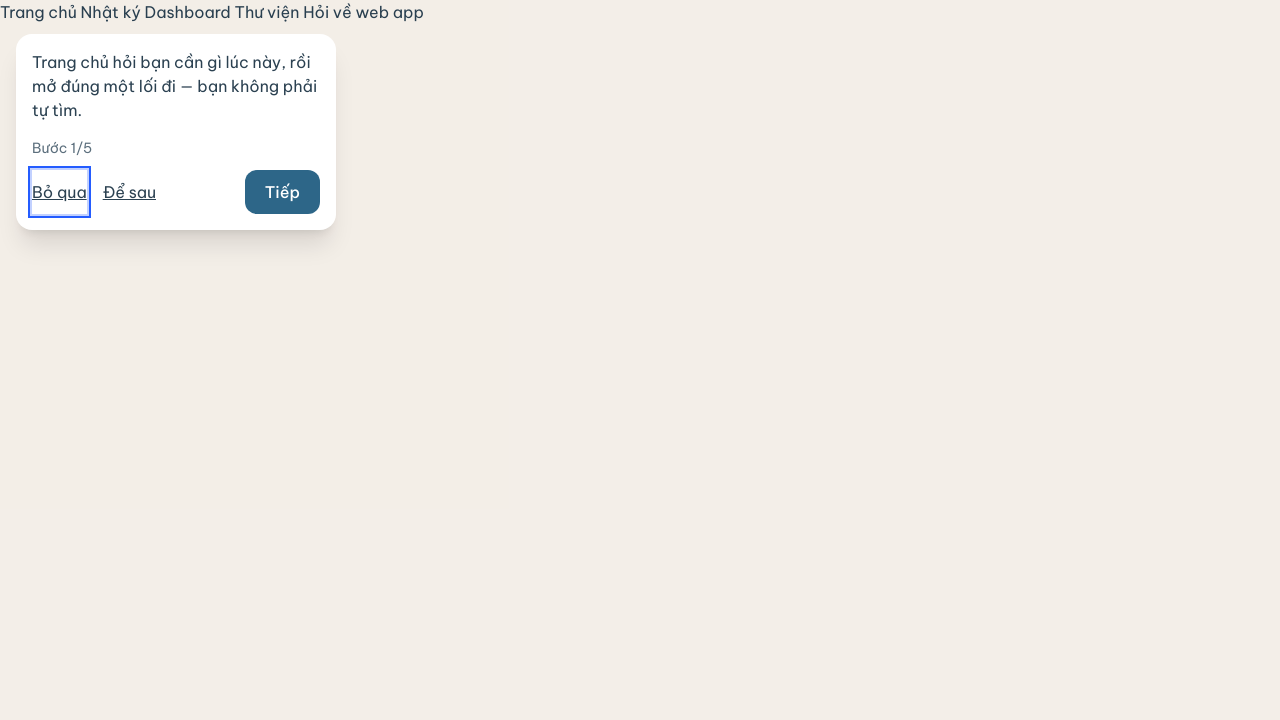
Scenario: OnboardingTour — 'Để sau' và 'Bỏ qua' là hai việc khác nhau › 'Bỏ qua' ghi dismissed để KHÔNG tự chạy lại
The image size is (1280, 720).
Click the button "Bỏ qua": x=59, y=192 [32,170,87,214]
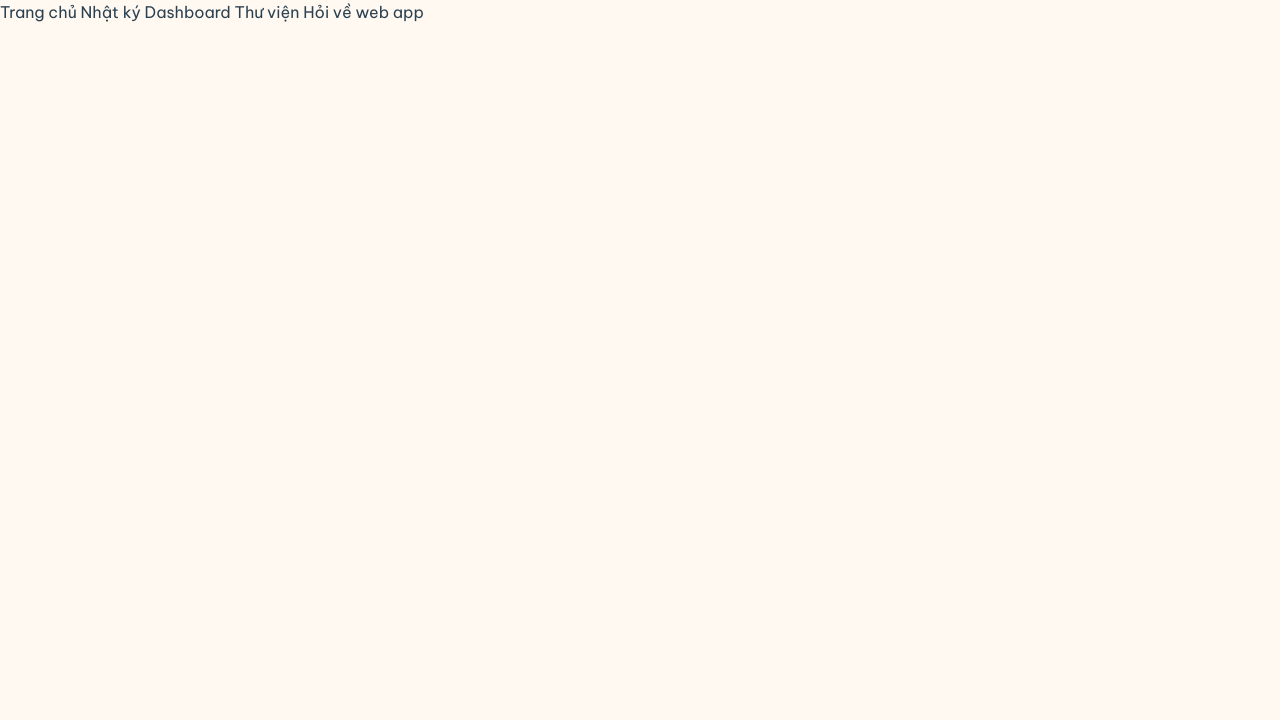
Result: the dialog is gone
